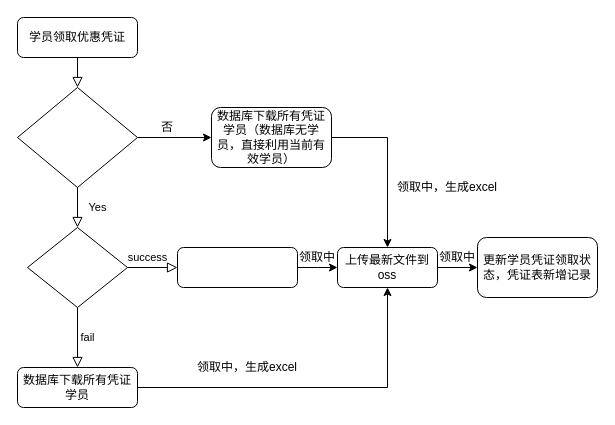
This 615x425 diagram has some shape labels left out. Each missing label, with the centre of its shape:
oss有合并文件&&学员凭证表有数据: point (77, 137)
下载oss: point (77, 267)
当前有效学员与oss excel合并: point (237, 267)
